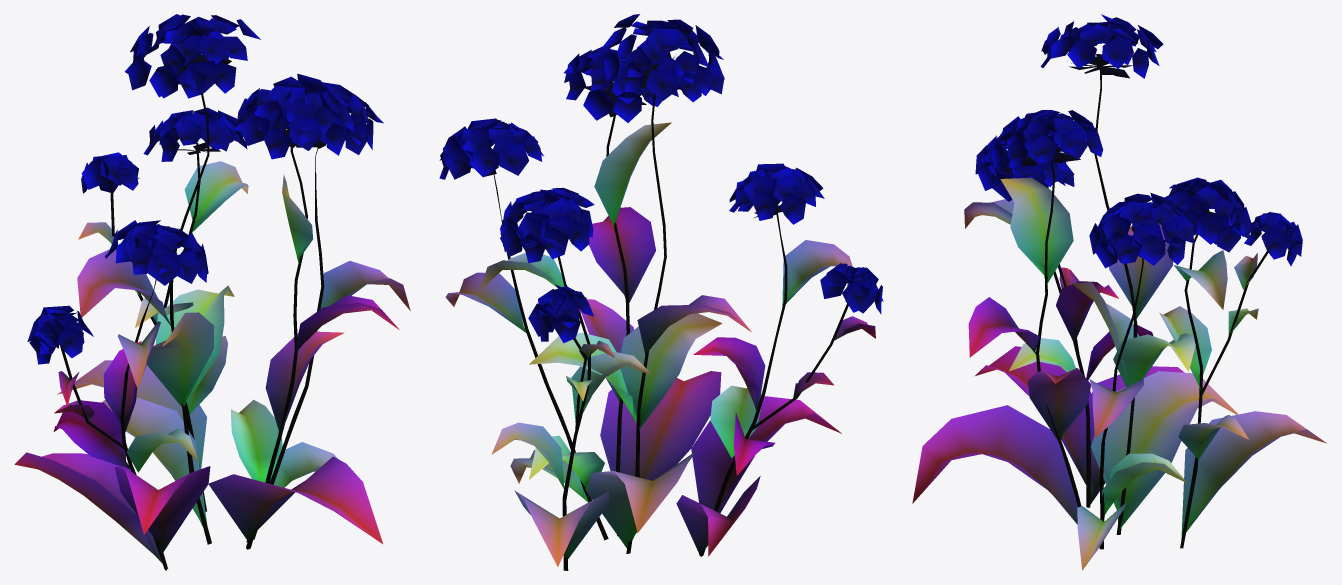
The model's file is SM_WildCarrot_M_01.fbx.
3 views of the same model, side by side, from view 1: azimuth 30°, elevation 25°; view 2: azimuth 150°, elevation 25°; view 3: azimuth 270°, elevation 25° (orthographic). The views are drawn at different scales.
Visible parts, largest first — view 1: SM_WildCarrot_M_01_LOD0; view 2: SM_WildCarrot_M_01_LOD0; view 3: SM_WildCarrot_M_01_LOD0.
Boxes of the visible parts, x1=… form: SM_WildCarrot_M_01_LOD0: x1=14, y1=14, x2=410, y2=570; SM_WildCarrot_M_01_LOD0: x1=439, y1=14, x2=883, y2=570; SM_WildCarrot_M_01_LOD0: x1=912, y1=14, x2=1326, y2=570.
Size of the model in its own units: 79.54 by 74.93 by 100.
